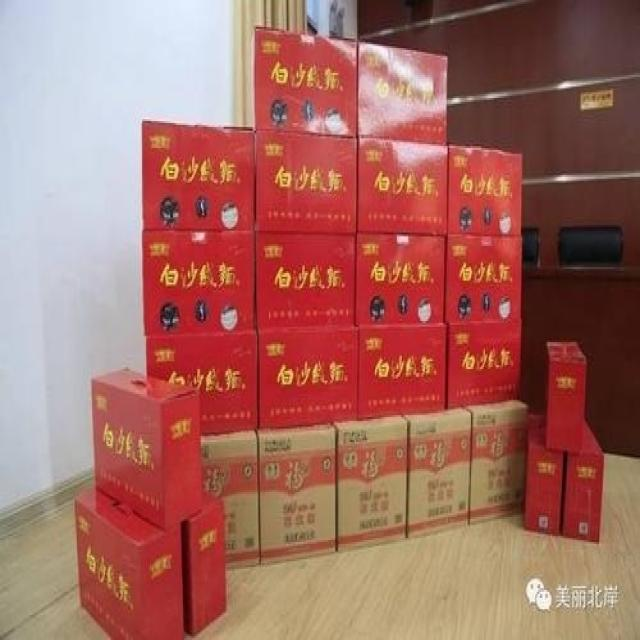box: (92, 368, 203, 530), (74, 477, 186, 637), (142, 123, 253, 232), (142, 229, 257, 334), (253, 423, 338, 564), (250, 28, 358, 137), (145, 331, 257, 433), (254, 131, 358, 234), (331, 416, 408, 552), (257, 326, 359, 427), (254, 232, 356, 330), (358, 41, 447, 144), (405, 409, 472, 541), (356, 137, 447, 234), (358, 323, 445, 420), (201, 428, 260, 571), (465, 400, 528, 526), (354, 237, 446, 323), (447, 144, 522, 235), (446, 322, 522, 409), (446, 237, 522, 322), (184, 490, 227, 635), (560, 418, 604, 542), (523, 411, 565, 535), (543, 341, 586, 453)
